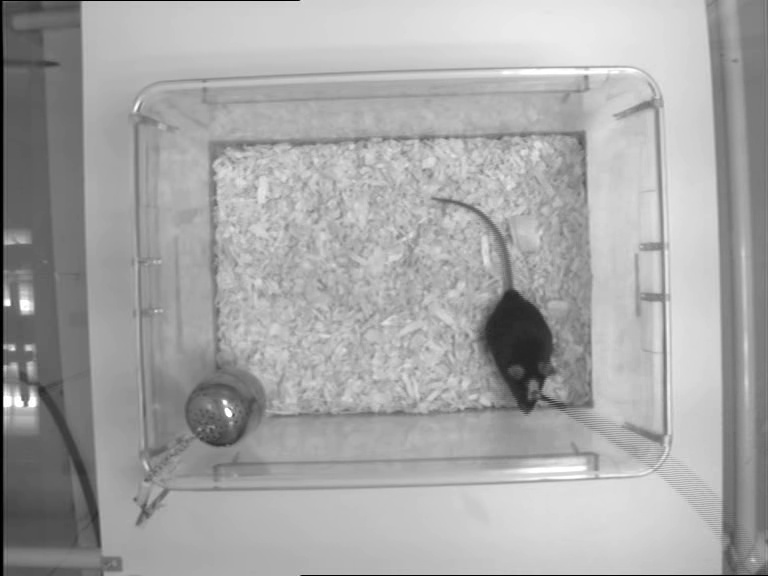mice: (431, 197, 553, 415)
